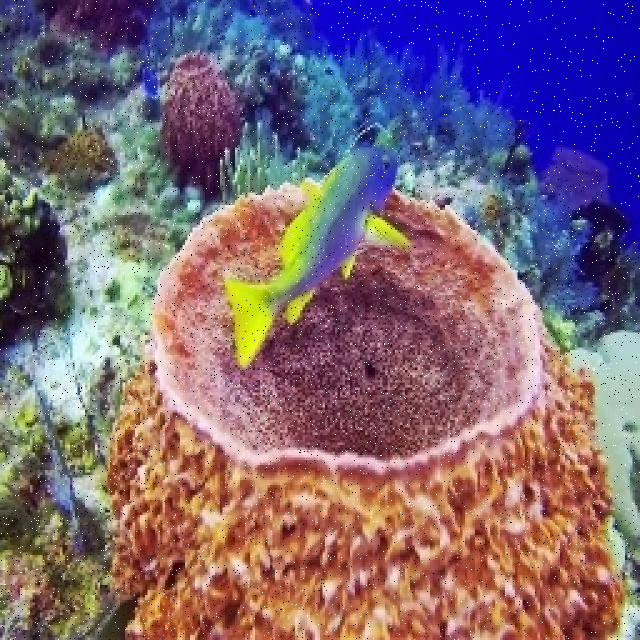fish: (223, 145, 413, 369)
reefs: (98, 181, 629, 637), (157, 51, 246, 193)
